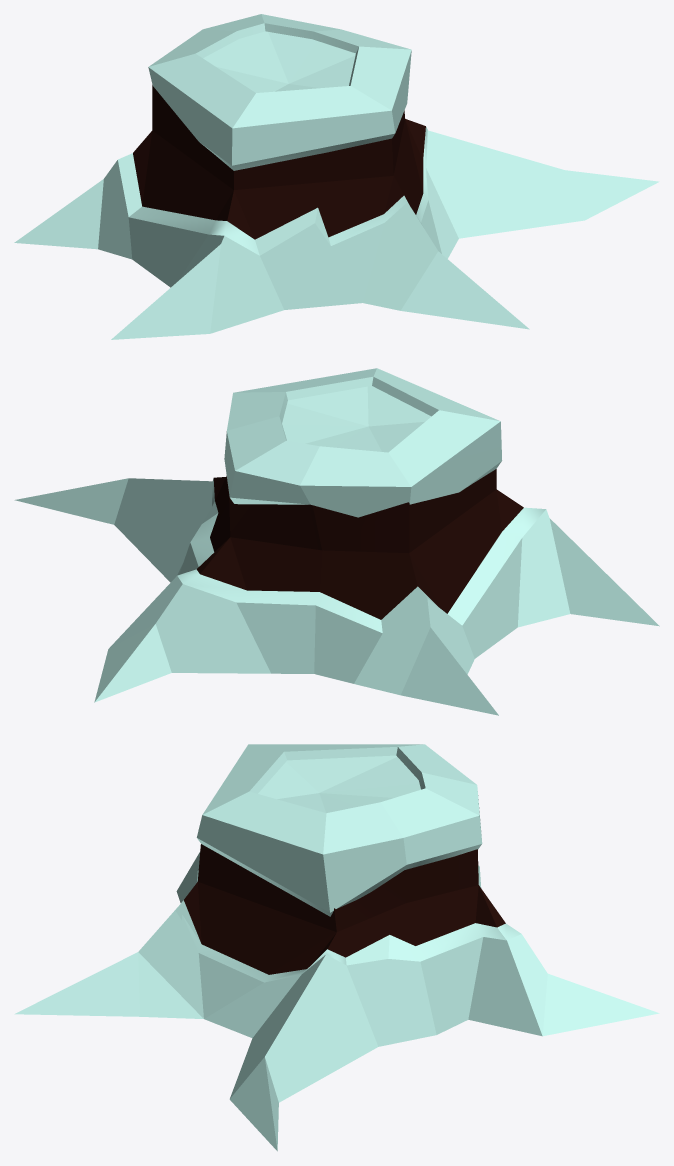
File: Trunk1.FBX
3 renders of one model, top to bottom at view 1: azimuth 30°, elevation 25°; view 2: azimuth 150°, elevation 25°; view 3: azimuth 270°, elevation 25°, orthographic. The views are drawn at different scales.
Visible parts, largest first — view 1: Trunk1_C, Trunk1_D, Trunk1_A, Trunk1_b; view 2: Trunk1_C, Trunk1_A, Trunk1_D, Trunk1_b; view 3: Trunk1_C, Trunk1_D, Trunk1_A, Trunk1_b.
Boxes of the visible parts, <box> form: Trunk1_C: <box>14,127,659,339</box>; Trunk1_D: <box>148,14,411,170</box>; Trunk1_A: <box>133,85,425,239</box>; Trunk1_b: <box>203,31,355,92</box>; Trunk1_C: <box>14,478,659,715</box>; Trunk1_A: <box>196,469,523,619</box>; Trunk1_D: <box>224,368,502,517</box>; Trunk1_b: <box>282,386,431,452</box>; Trunk1_C: <box>14,851,659,1151</box>; Trunk1_D: <box>196,744,482,916</box>; Trunk1_A: <box>184,844,505,974</box>; Trunk1_b: <box>258,755,420,813</box>.
Bounding box in the file's own units: 5050 × 1564 × 4651.
